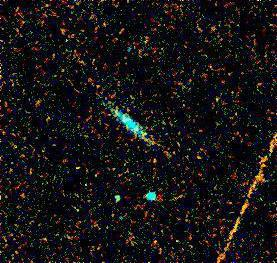star: (135, 147, 165, 177)
